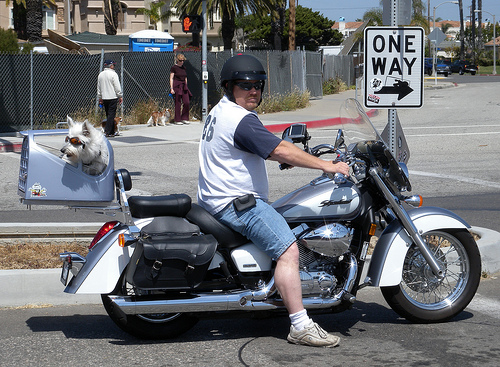helmet: (223, 58, 263, 82)
